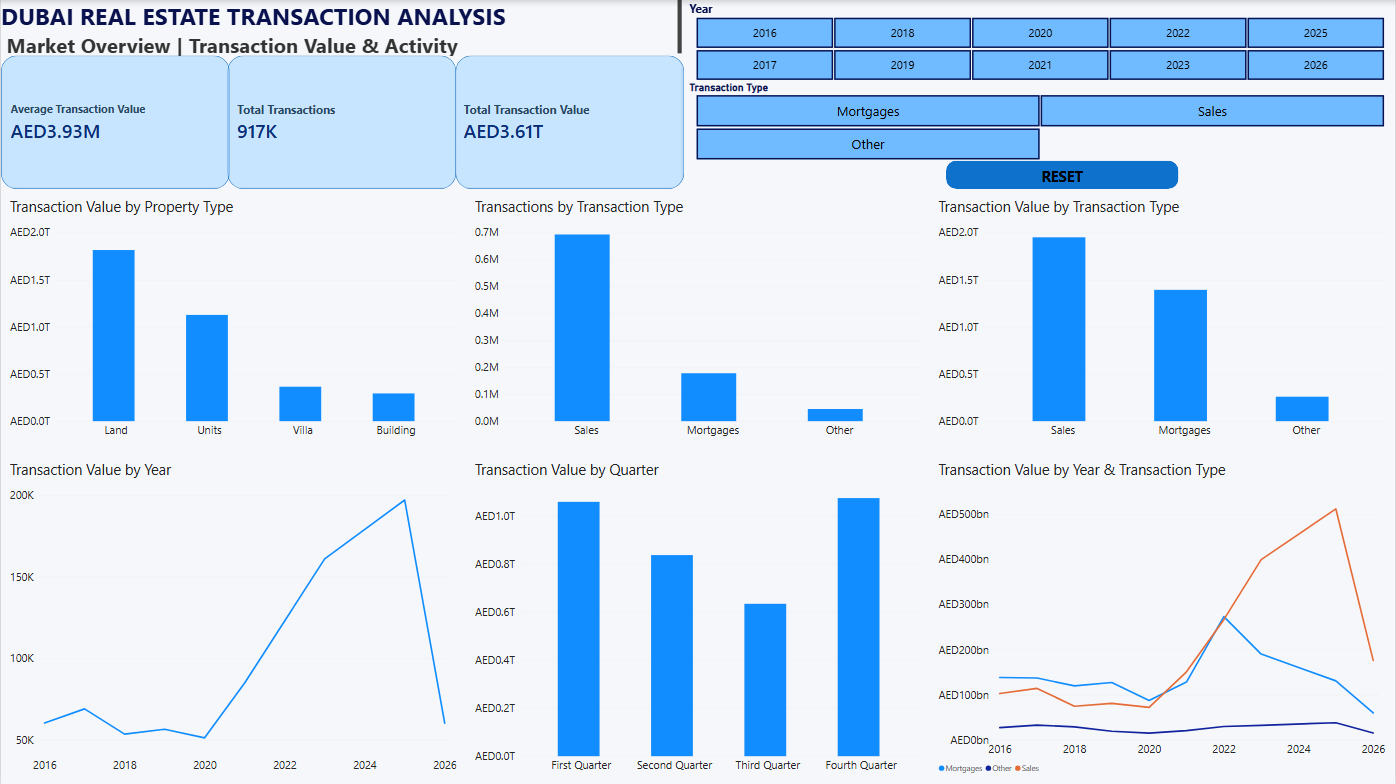

The page's visual inventory and layout, read from the dashboard file:
{"tool":"powerbi","page":{"name":"Page 1","canvas":[2560,1440],"ordinal":0},"visuals":[{"type":"cardVisual","fields":{"Data":["Dubai_Real_Estate.Total Transaction Value"]},"box":[832.1,101.9,420,245.2],"z":0},{"type":"cardVisual","fields":{"Data":["Dubai_Real_Estate.Total Transactions"]},"box":[416,101.9,420,245.2],"z":1000},{"type":"cardVisual","fields":{"Data":["Dubai_Real_Estate.Average Transaction Value"]},"box":[0,101.9,420,245.2],"z":2000},{"type":"lineChart","title":"Transaction Value by Year","fields":{"Category":["Dubai_Real_Estate.Year"],"Y":["Dubai_Real_Estate.Total Transactions"]},"box":[0,828.3,853,611.7],"z":3000},{"type":"clusteredColumnChart","title":"Transaction Value by Transaction Type","fields":{"Category":["Dubai_Real_Estate.Title"],"Y":["Dubai_Real_Estate.Total Transaction Value"]},"box":[1705.4,347.1,853,478.5],"z":4000},{"type":"clusteredColumnChart","title":"Transaction Value by Property Type","fields":{"Category":["Dubai_Real_Estate.Type"],"Y":["Dubai_Real_Estate.Total Transaction Value"]},"box":[0,348.3,853,478.5],"z":5000},{"type":"lineChart","title":"Transaction Value by Year & Transaction Type","fields":{"Category":["Dubai_Real_Estate.Year"],"Y":["Dubai_Real_Estate.Total Transaction Value"],"Series":["Dubai_Real_Estate.Title"]},"box":[1705.4,828.3,853,611.7],"z":6000},{"type":"clusteredColumnChart","title":"Transaction Value by Quarter","fields":{"Category":["Dubai_Real_Estate.Quarter"],"Y":["Dubai_Real_Estate.Total Transaction Value"]},"box":[852.7,828.3,853,611.7],"z":7000},{"type":"clusteredColumnChart","title":"Transactions by Transaction Type","fields":{"Category":["Dubai_Real_Estate.Title"],"Y":["Dubai_Real_Estate.Total Transactions"]},"box":[852.7,347.1,853,478.5],"z":8000},{"type":"textbox","box":[0,0,1250.8,101.9],"z":9000},{"type":"shape","box":[416,101.9,420,245.2],"z":10000},{"type":"shape","box":[834.8,101.9,420,245.2],"z":11000},{"type":"shape","box":[0,101.9,420,245.2],"z":12000},{"type":"slicer","fields":{"Values":["Dubai_Real_Estate.Year"]},"box":[1256.4,0,1303.2,148.8],"z":13000},{"type":"slicer","fields":{"Values":["Dubai_Real_Estate.Title"]},"box":[1256.4,148.8,1303.2,146],"z":14000},{"type":"actionButton","title":"RESET","box":[1735.7,294.8,427,52.3],"z":15000}]}

Visuals, with their boxes in screenshot pixels (x1, y1, x2, y2), scaled from the page's 2560x1440 canvas onto the 1396x784 screenshot:
cardVisual - Dubai_Real_Estate.Total Transaction Value: [454, 55, 683, 189]
cardVisual - Dubai_Real_Estate.Total Transactions: [227, 55, 456, 189]
cardVisual - Dubai_Real_Estate.Average Transaction Value: [0, 55, 229, 189]
"Transaction Value by Year" lineChart: [0, 451, 465, 783]
"Transaction Value by Transaction Type" clusteredColumnChart: [930, 189, 1395, 449]
"Transaction Value by Property Type" clusteredColumnChart: [0, 190, 465, 450]
"Transaction Value by Year & Transaction Type" lineChart: [930, 451, 1395, 783]
"Transaction Value by Quarter" clusteredColumnChart: [465, 451, 930, 783]
"Transactions by Transaction Type" clusteredColumnChart: [465, 189, 930, 449]
textbox: [0, 0, 682, 55]
shape: [227, 55, 456, 189]
shape: [455, 55, 684, 189]
shape: [0, 55, 229, 189]
slicer - Dubai_Real_Estate.Year: [685, 0, 1395, 81]
slicer - Dubai_Real_Estate.Title: [685, 81, 1395, 161]
"RESET" actionButton: [946, 161, 1179, 189]
